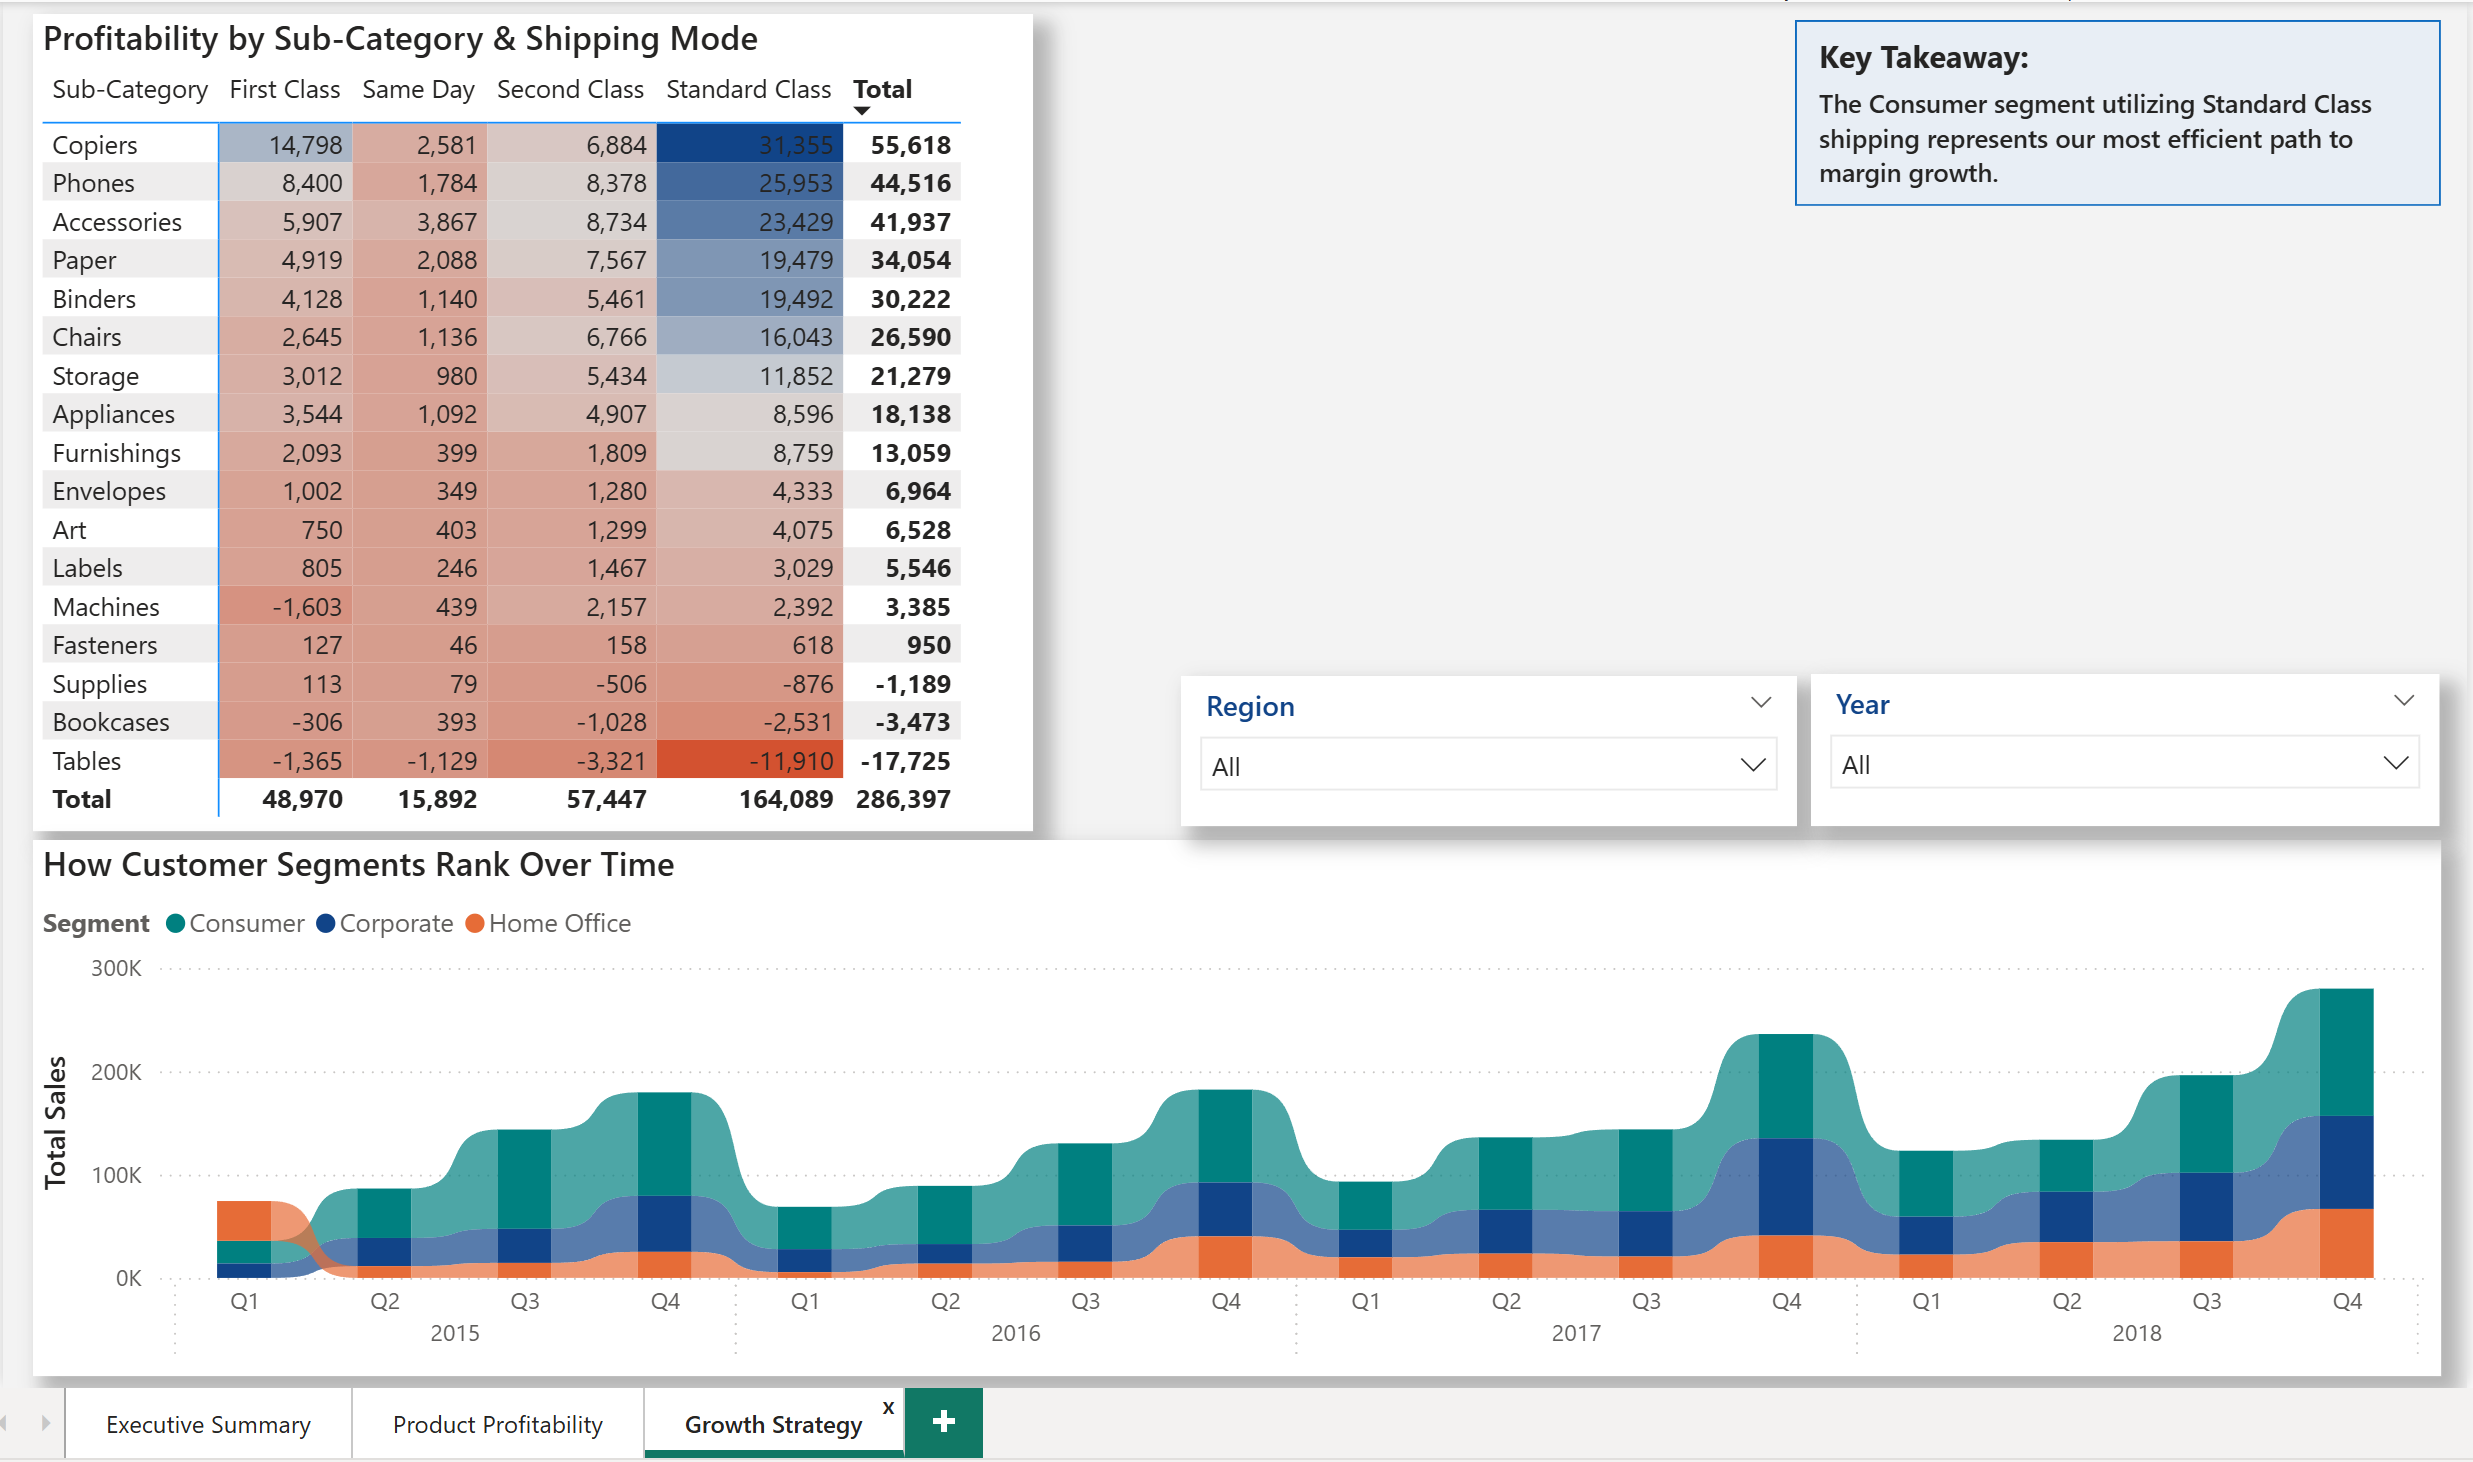

The page's visual inventory and layout, read from the dashboard file:
{"tool":"powerbi","page":{"name":"Growth Strategy","canvas":[1280,720],"ordinal":2},"visuals":[{"type":"shape","box":[931.1,8.9,335.6,96.7],"z":0},{"type":"shape","title":"Key Takeaway:","box":[943.3,16.7,313.3,81.1],"z":1000},{"type":"pivotTable","title":"Profitability by Sub-Category & Shipping Mode","fields":{"Rows":["Orders.Sub-Category"],"Columns":["Orders.Ship Mode"],"Values":["#Measures.Total Profit"]},"box":[15.6,6.7,519.4,424.4],"z":2000},{"type":"ribbonChart","title":"How Customer Segments Rank Over Time ","fields":{"Category":["Dim_Date.A Date Hierarchy.Year","Dim_Date.A Date Hierarchy.Quarter","Dim_Date.A Date Hierarchy.Month Name","Dim_Date.A Date Hierarchy.Date"],"Y":["#Measures.Total Sales"],"Series":["Orders.Segment"]},"box":[15.6,435,1251.1,278.3],"z":3000},{"type":"slicer","fields":{"Values":["Orders.Region"]},"box":[611.7,350,320,77.8],"z":4000},{"type":"slicer","fields":{"Values":["Dim_Date.Year"]},"box":[938.9,349.4,326.7,78.9],"z":5000}]}

Visuals, with their boxes in screenshot pixels (x1, y1, x2, y2):
shape: [left=1793, top=30, right=2433, bottom=214]
"Key Takeaway:" shape: [left=1817, top=45, right=2414, bottom=199]
"Profitability by Sub-Category & Shipping Mode" pivotTable: [left=49, top=26, right=1039, bottom=834]
"How Customer Segments Rank Over Time " ribbonChart: [left=49, top=842, right=2433, bottom=1372]
slicer - Orders.Region: [left=1185, top=680, right=1795, bottom=828]
slicer - Dim_Date.Year: [left=1808, top=679, right=2431, bottom=829]
